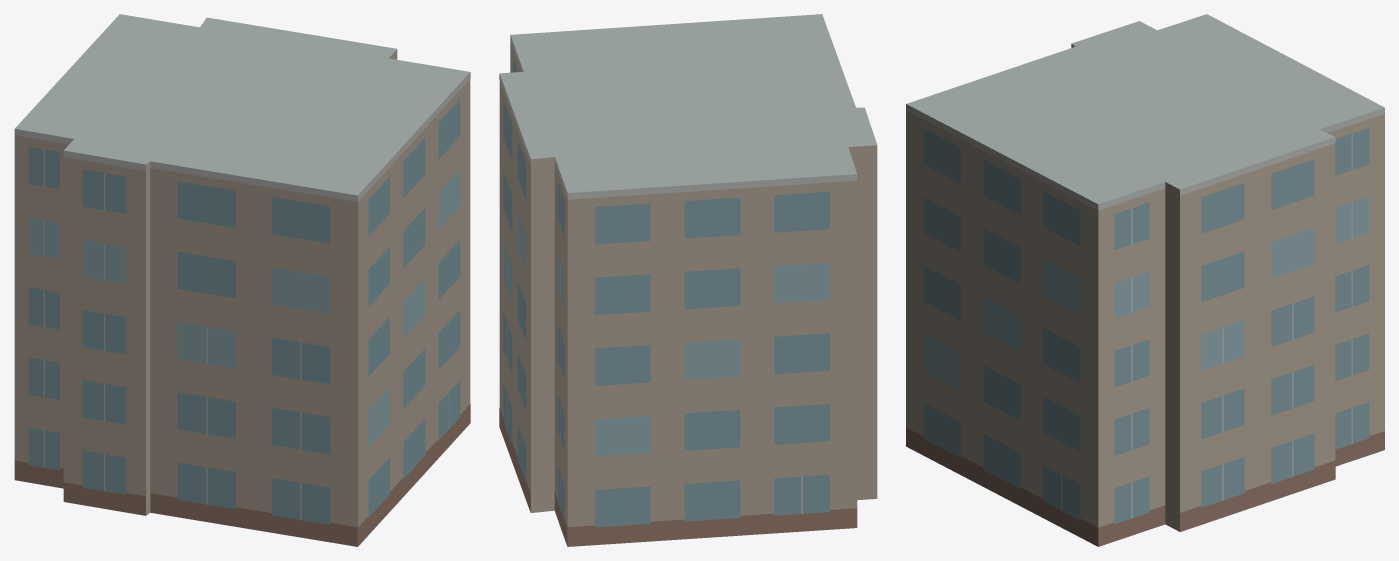
Rendered from survey-upis-32729619.glb.
3 renders of one model, left to right at view 1: azimuth 30°, elevation 25°; view 2: azimuth 150°, elevation 25°; view 3: azimuth 270°, elevation 25°, orthographic. The views are drawn at different scales.
Parts seen in each view (by area): view 1: survey-upis-32729619.tmp; view 2: survey-upis-32729619.tmp; view 3: survey-upis-32729619.tmp.
Boxes of the visible parts, left/top/right/bottom form: survey-upis-32729619.tmp: left=14, top=14, right=470, bottom=546; survey-upis-32729619.tmp: left=499, top=14, right=877, bottom=546; survey-upis-32729619.tmp: left=906, top=14, right=1384, bottom=546.
Bounding box in the file's own units: 15.74 × 13.2 × 16.73.
